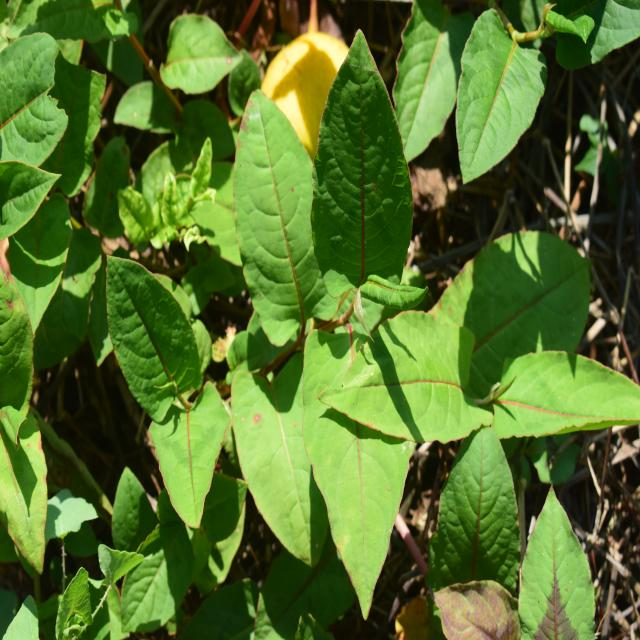Chinese_knotweed: (192, 91, 550, 563), (98, 230, 241, 535)
